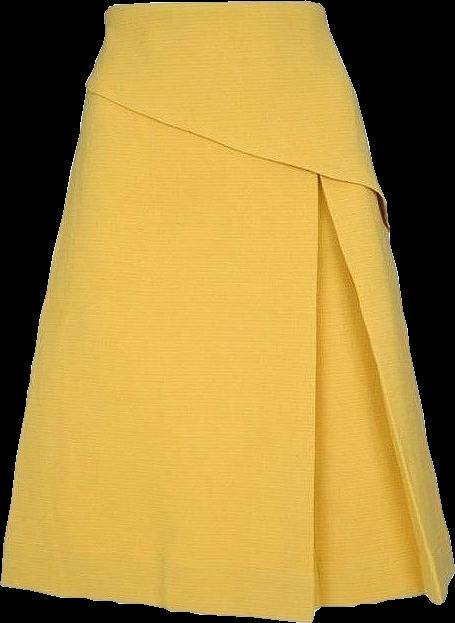Hemline: (0, 570, 454, 622)
Waistline: (82, 82, 386, 199), (100, 0, 324, 15)
